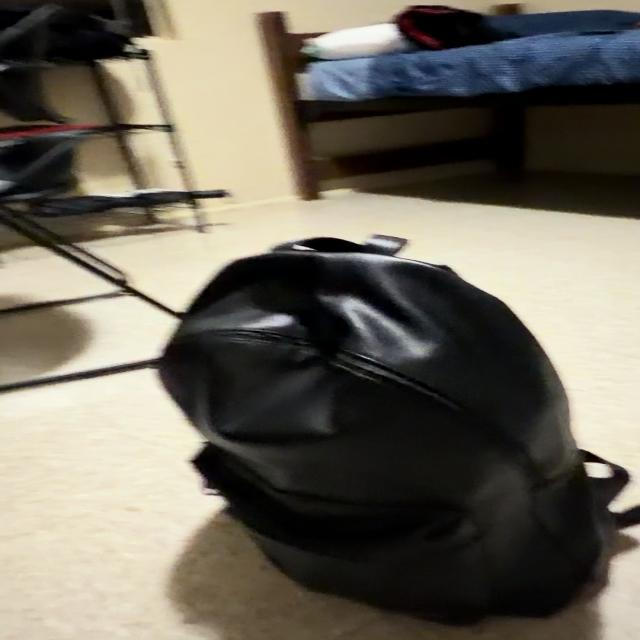backpack: (160, 236, 639, 624)
